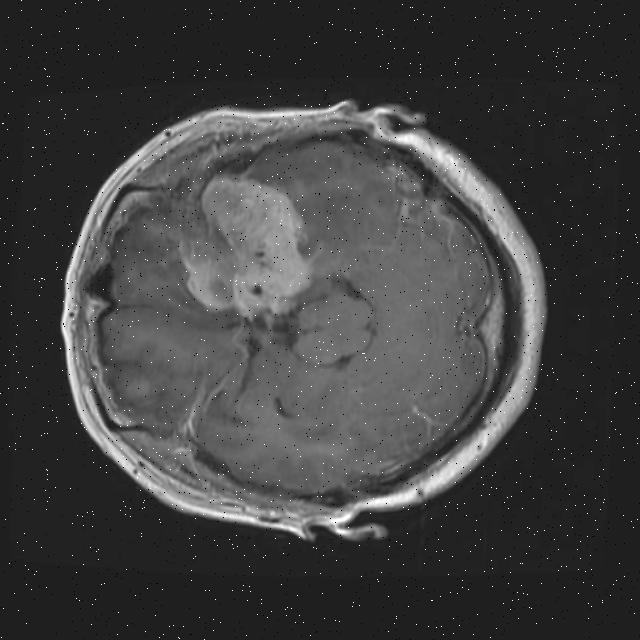Meningioma: (171, 170, 317, 323)
